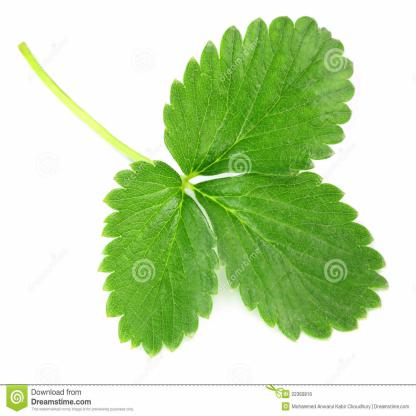strawberry leaf: (198, 168, 393, 343), (160, 12, 356, 178), (102, 151, 220, 353)
